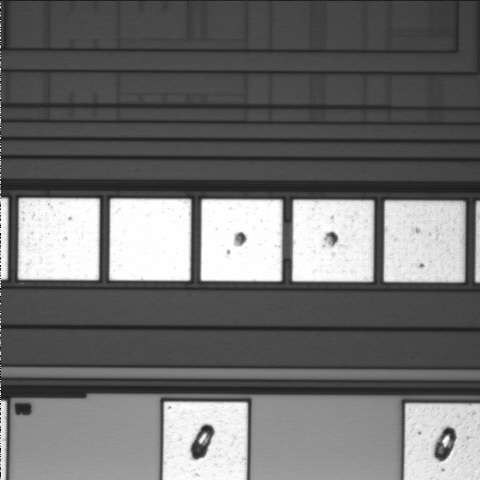pad: (18, 198, 100, 280), (109, 199, 191, 281), (292, 200, 374, 282), (201, 199, 282, 281), (384, 201, 465, 282)
